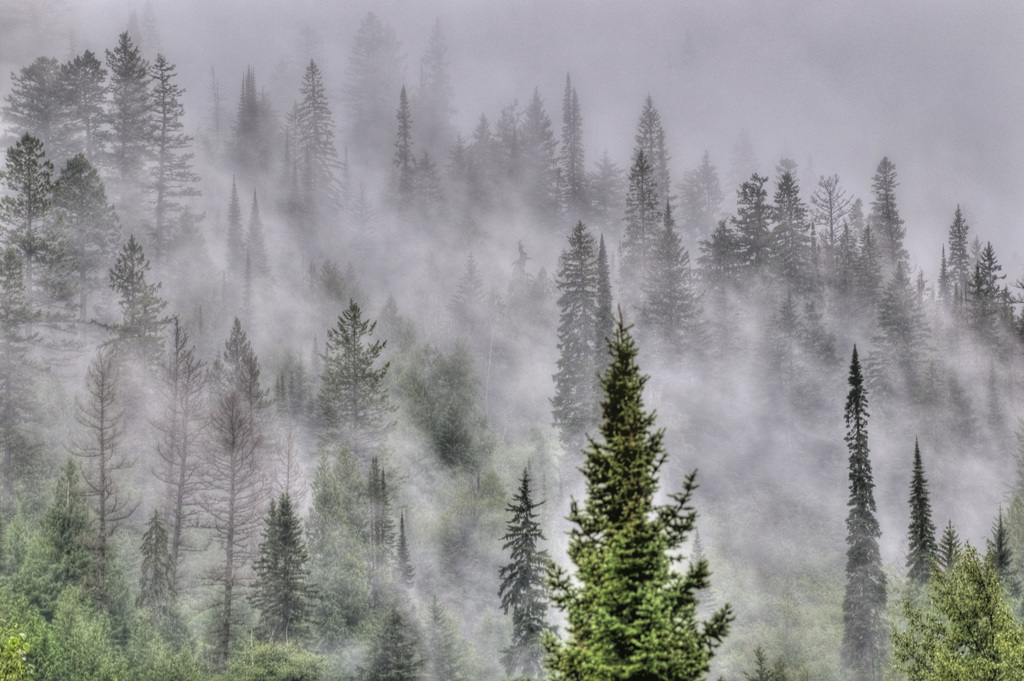Tree: (0, 0, 1023, 681), (541, 311, 735, 681), (841, 347, 889, 679), (904, 441, 940, 625)
